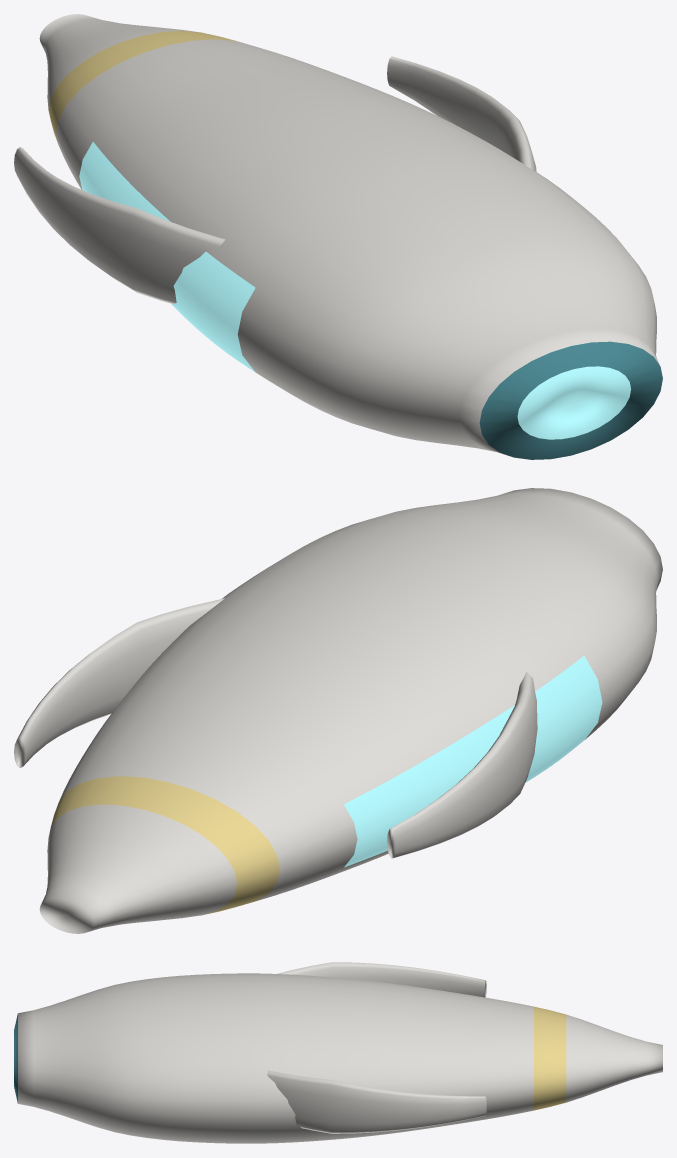
Rendered from aelith_dd.glb.
The picture shows the model from 3 angles, top to bottom: view 1: azimuth 30°, elevation 25°; view 2: azimuth 150°, elevation 25°; view 3: azimuth 270°, elevation 25°; orthographic projection. The views are drawn at different scales.
Parts seen in each view (by area): view 1: hull_mesh, limb_0_mesh, limb_0_port_mesh; view 2: hull_mesh, limb_0_port_mesh, limb_0_mesh; view 3: hull_mesh, limb_0_port_mesh, limb_0_mesh.
Part boxes in pixels (x1,y1,x2,y2): hull_mesh: [39, 14, 662, 459]; limb_0_mesh: [14, 147, 225, 304]; limb_0_port_mesh: [387, 56, 536, 171]; hull_mesh: [39, 488, 662, 933]; limb_0_port_mesh: [14, 598, 224, 767]; limb_0_mesh: [387, 672, 537, 858]; hull_mesh: [14, 973, 662, 1143]; limb_0_port_mesh: [267, 1070, 486, 1133]; limb_0_mesh: [277, 962, 486, 997].
Bounding box in the file's own units: 40.48 × 18.17 × 84.5.
